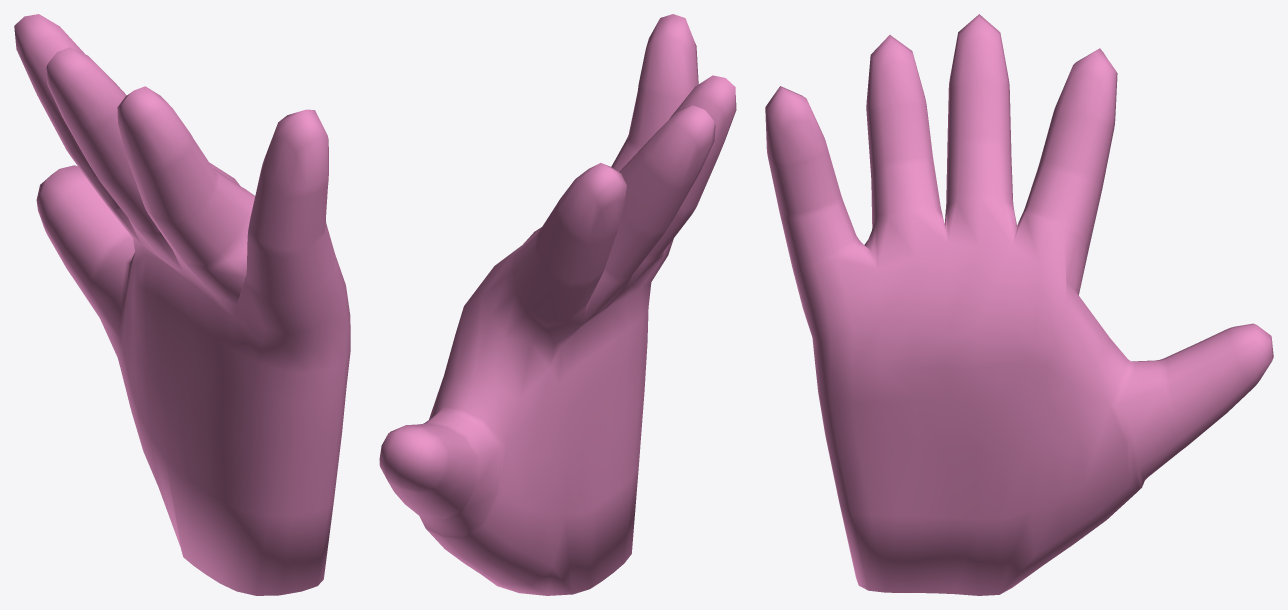
Rendered from hand.fbx.
3 renders of one model, left to right at view 1: azimuth 30°, elevation 25°; view 2: azimuth 150°, elevation 25°; view 3: azimuth 270°, elevation 25°, orthographic. The views are drawn at different scales.
Visible parts, largest first — view 1: hand; view 2: hand; view 3: hand.
Boxes of the visible parts, left/top/right/bottom form: hand: left=14, top=14, right=350, bottom=595; hand: left=379, top=14, right=736, bottom=595; hand: left=765, top=14, right=1273, bottom=595.
Bounding box in the file's own units: 236 × 507 × 480.
